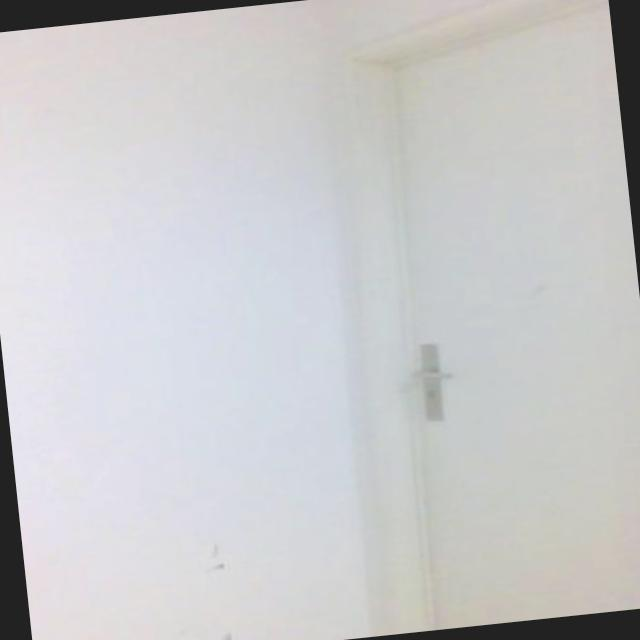door: (329, 0, 640, 631)
